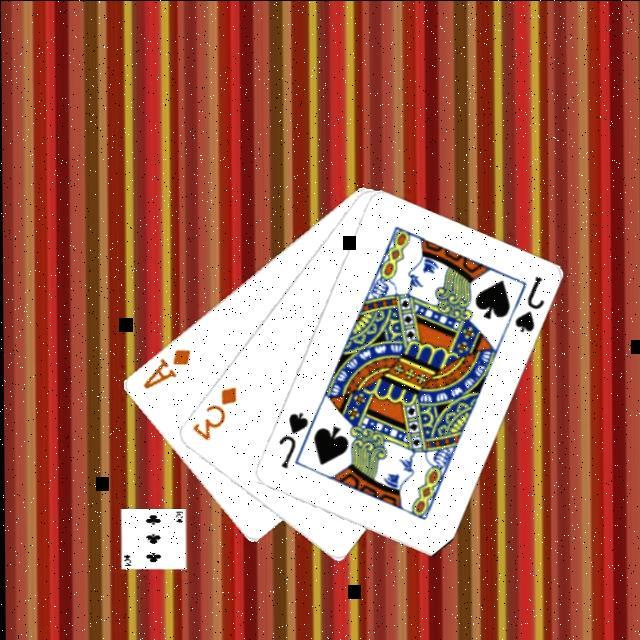3D: (185, 384, 238, 444)
AD: (136, 346, 191, 394)
JS: (272, 410, 308, 472), (508, 274, 544, 336)
